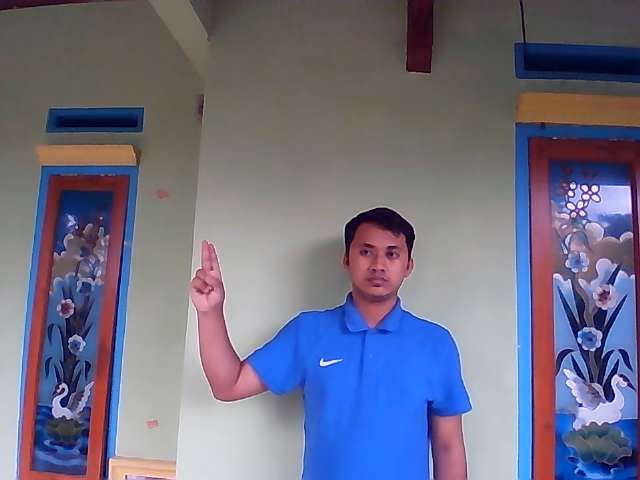U: (189, 239, 225, 311)
